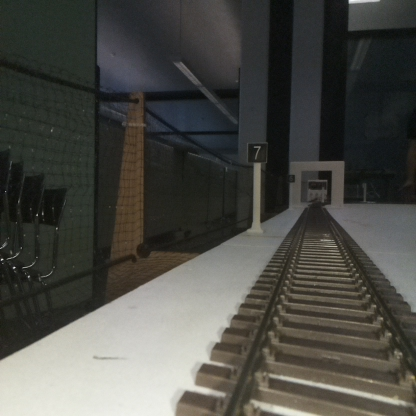black-info-7: (247, 143, 266, 233)
